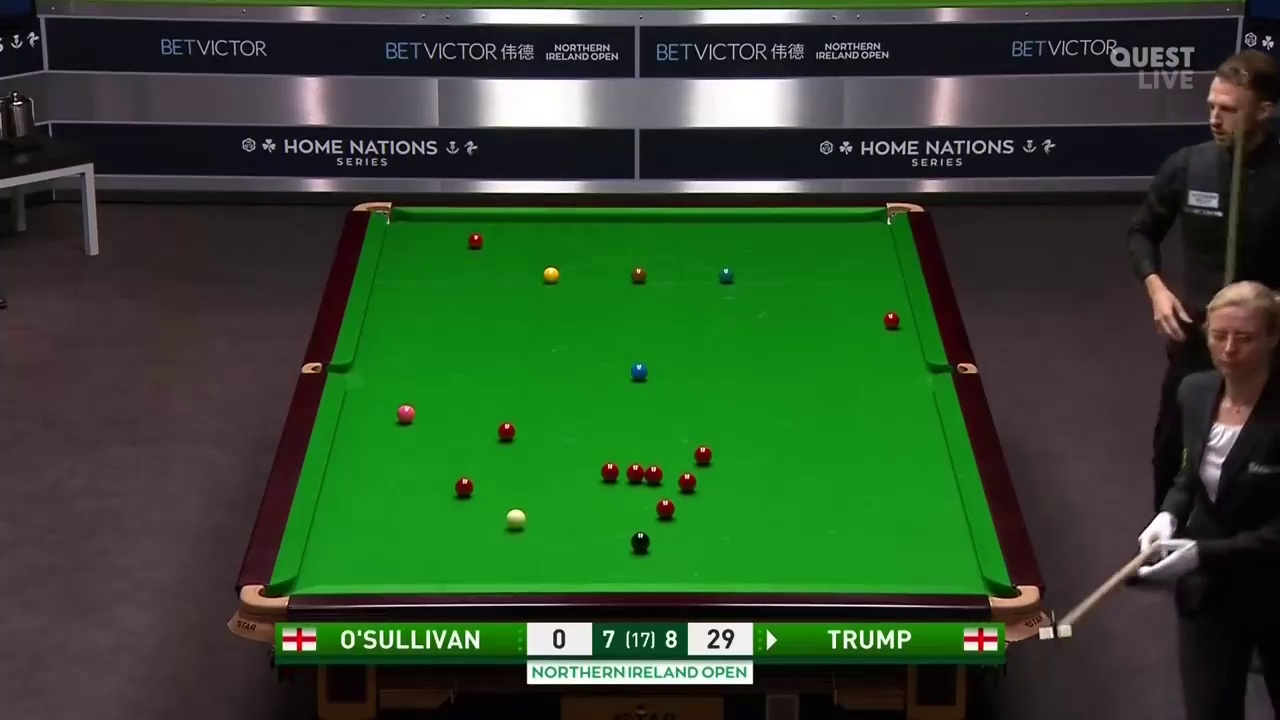black: (632, 531, 648, 558)
blue: (630, 363, 647, 382)
brown: (630, 268, 648, 284)
green: (716, 266, 736, 285)
pink: (399, 405, 414, 422)
red: (454, 477, 475, 497), (499, 421, 517, 441), (657, 502, 674, 523), (695, 446, 712, 466), (678, 475, 696, 493), (468, 228, 483, 248), (602, 463, 617, 483), (646, 467, 662, 485), (628, 464, 643, 481), (886, 312, 900, 328)
white: (505, 509, 527, 528)
yellow: (541, 268, 560, 283)
